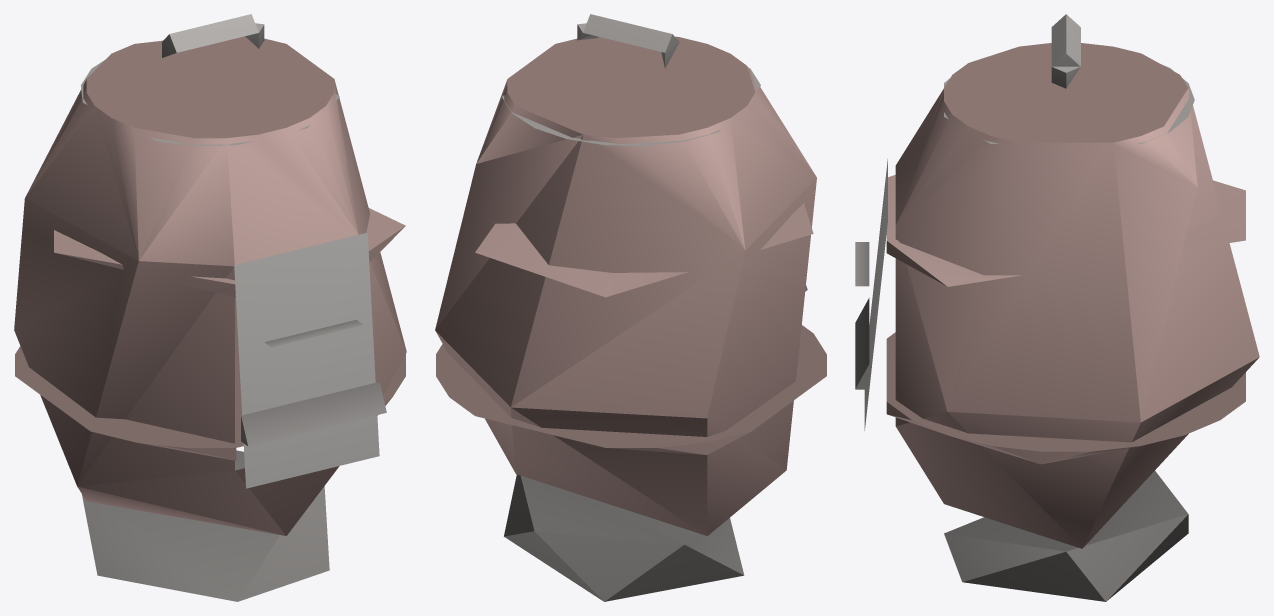
The model's file is lantern.lod2.glb.
3 views of the same model, side by side, from view 1: azimuth 30°, elevation 25°; view 2: azimuth 150°, elevation 25°; view 3: azimuth 270°, elevation 25° (orthographic).
Bounding box in the file's own units: 0.3297 × 0.4875 × 0.3461.
